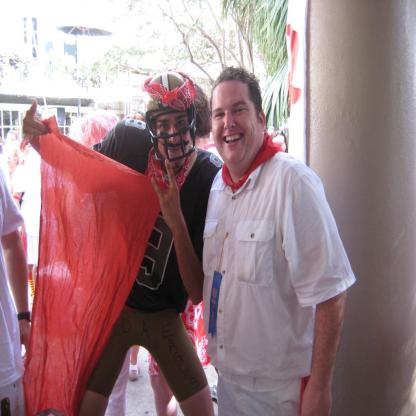Helmet: (139, 75, 201, 176)
